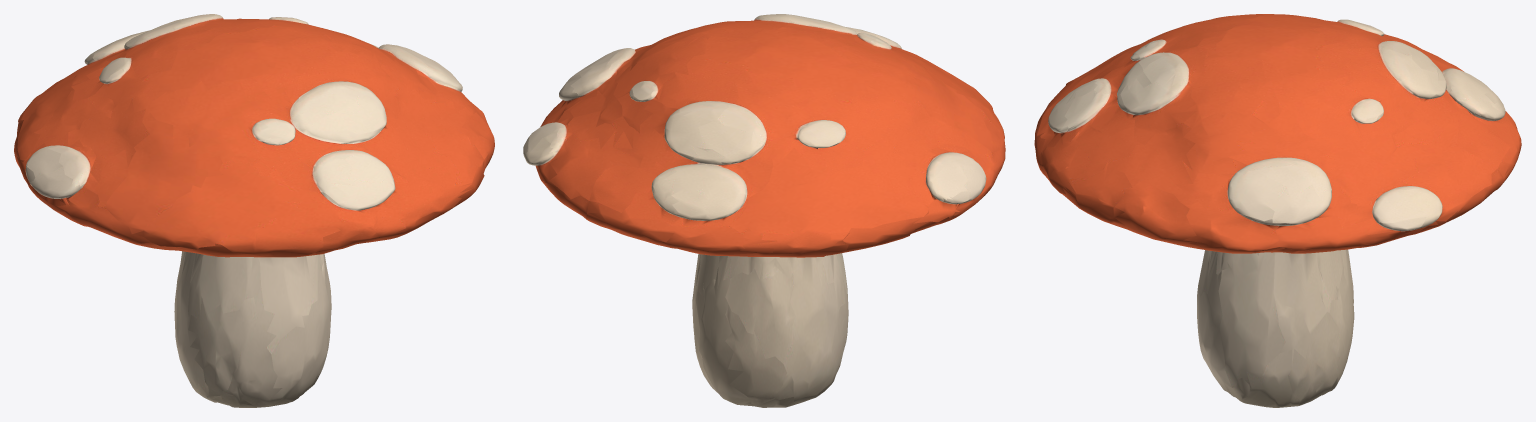
Rendered from forest-mushroom.glb.
The picture shows the model from 3 angles, left to right: view 1: azimuth 30°, elevation 25°; view 2: azimuth 150°, elevation 25°; view 3: azimuth 270°, elevation 25°; orthographic projection.
Size of the model in its own units: 1.9 by 1.5 by 1.9.
Materials: 1 (1 with a texture image).
